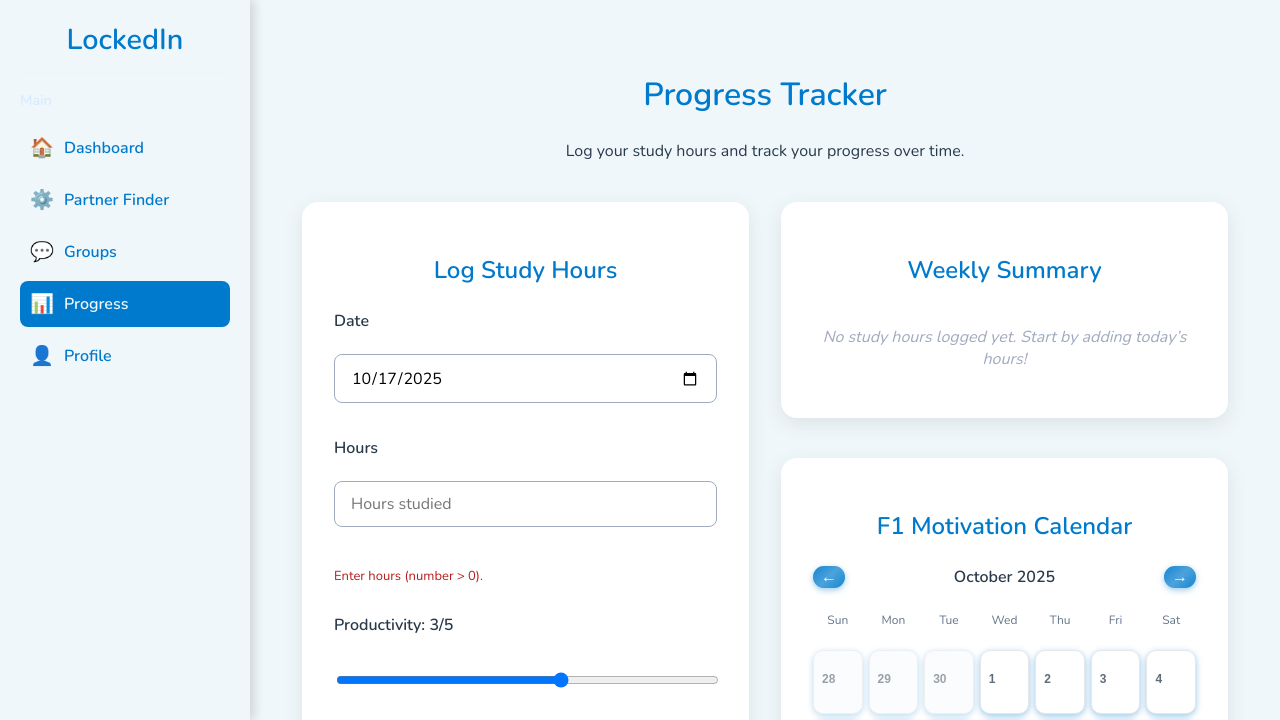
Scenario: Progress Tracker – extra branches › enables submit button when valid hours are entered
This screenshot has width=1280, height=720.
Enter valid hours
Type "2.5" into the number field labelled "Hours" at coordinates (526, 504), box [334,481,717,527]
(page scrolled)
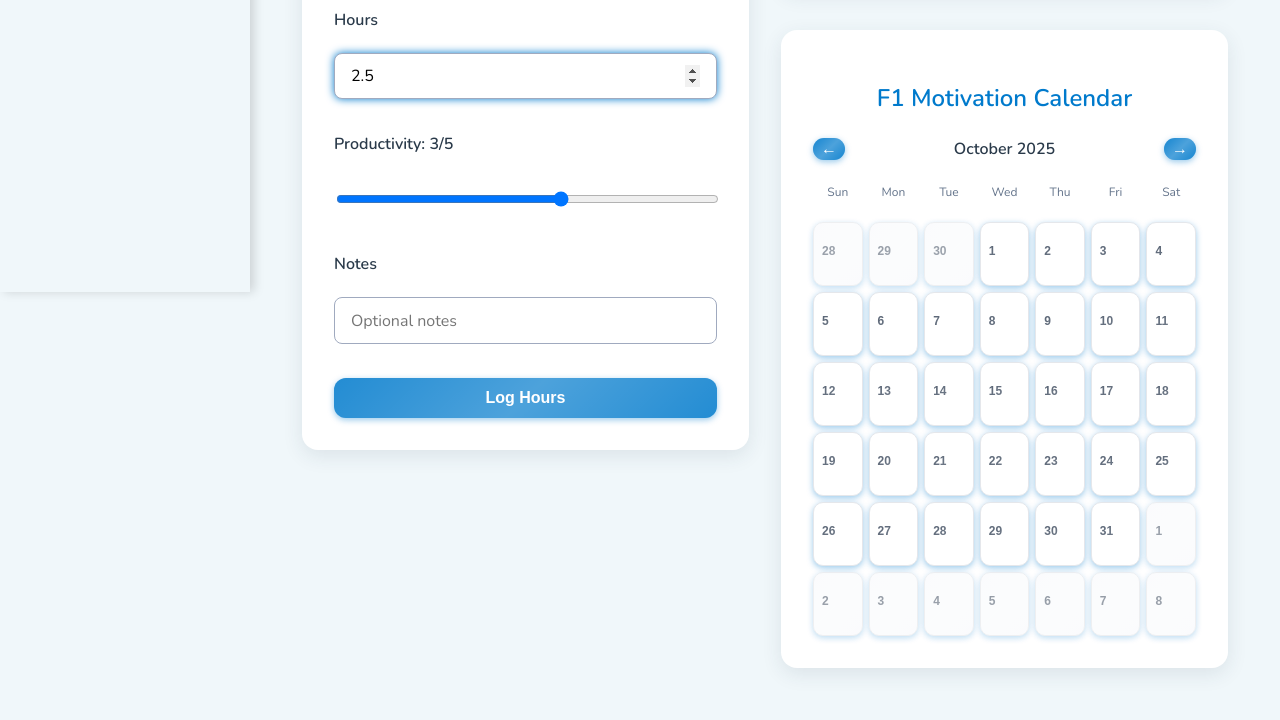
Expected: the button "Log Hours" is enabled, [334,378,717,418]
